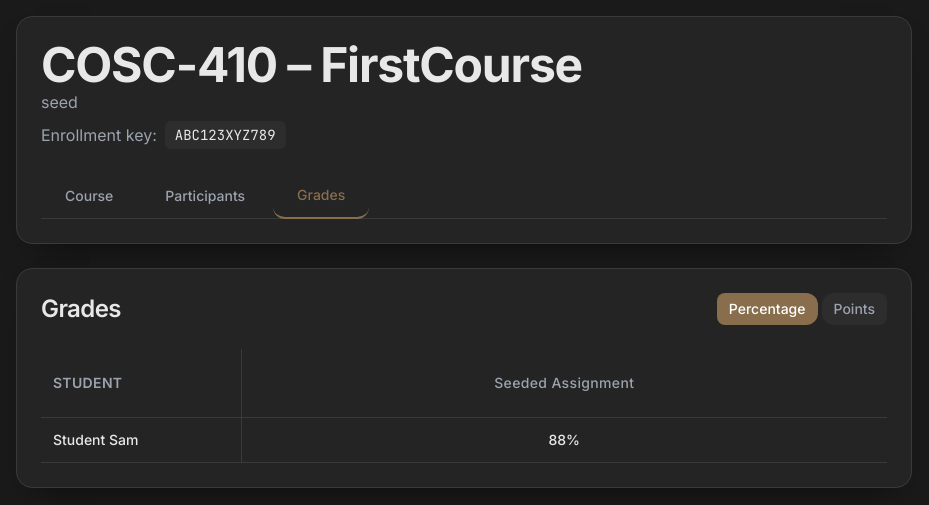
Scenario: CoursePage › gradebook shows points/percentage toggle for faculty
Expected: the heading "COSC-410 – FirstCourse" is shown, [41,35,582,94]
Click the tab "grades" at (321, 196), box [273,173,369,219]
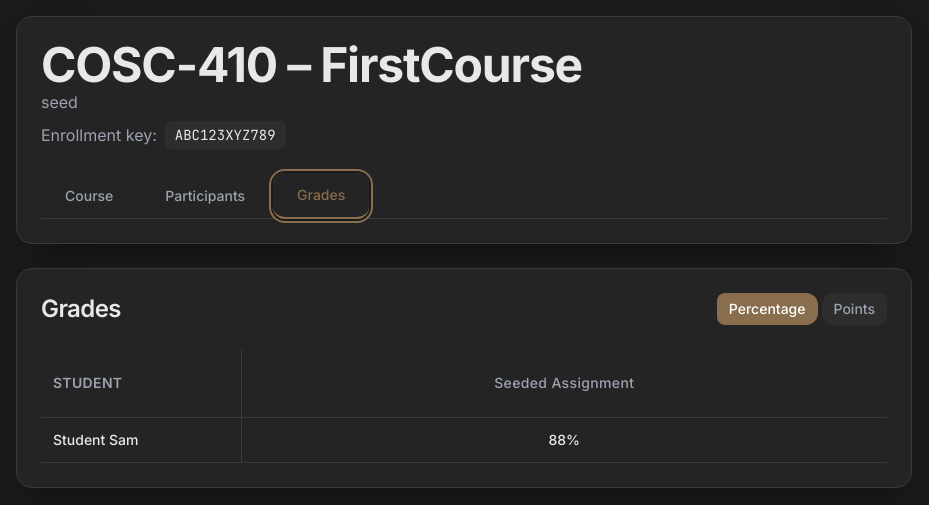
Expected: the text "88%" is shown, [548,431,580,448]
Note: Toggle to points
Click the button "Points" at (854, 309), box [822,293,887,325]
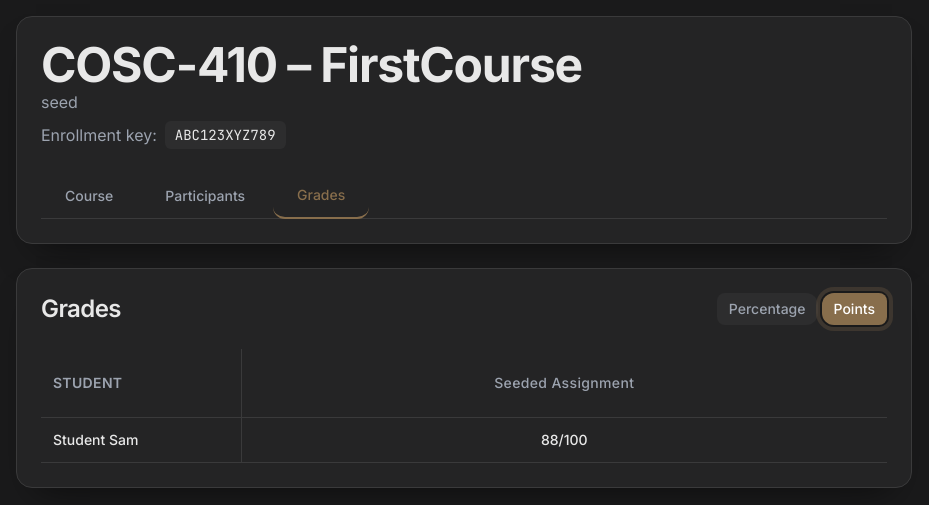
Expected: the text "88/100" is shown, [541,431,588,448]
Note: Toggle back to percentage (click the percentage button)
Click the button "Percentage" at (767, 309), box [717,293,818,325]
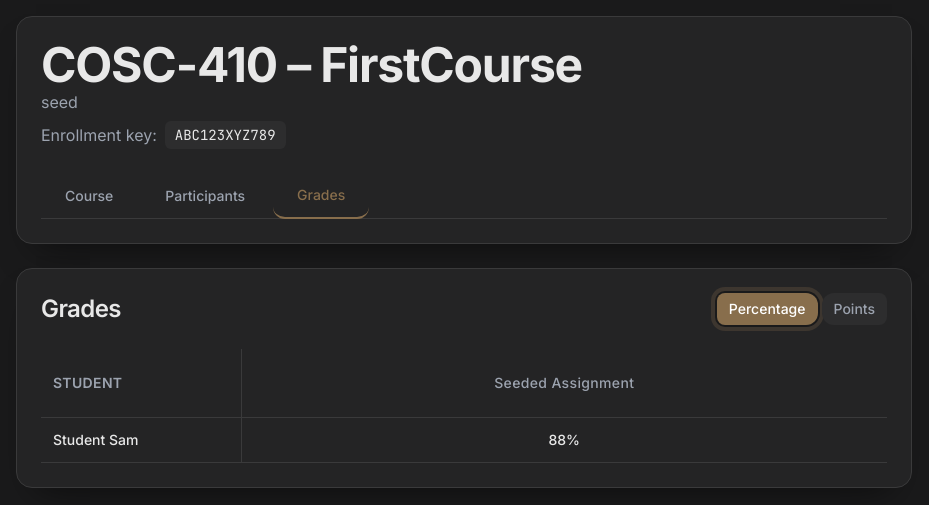
Expected: the text "88%" is shown, [548,431,580,448]
